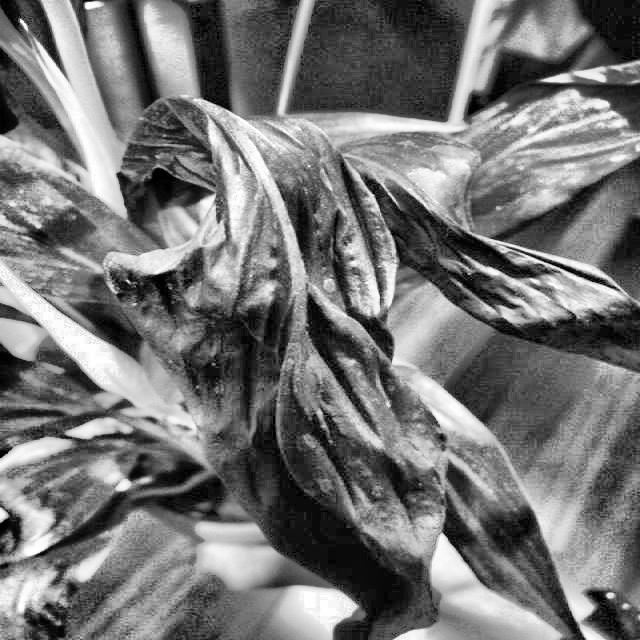plants: (108, 80, 639, 639)
